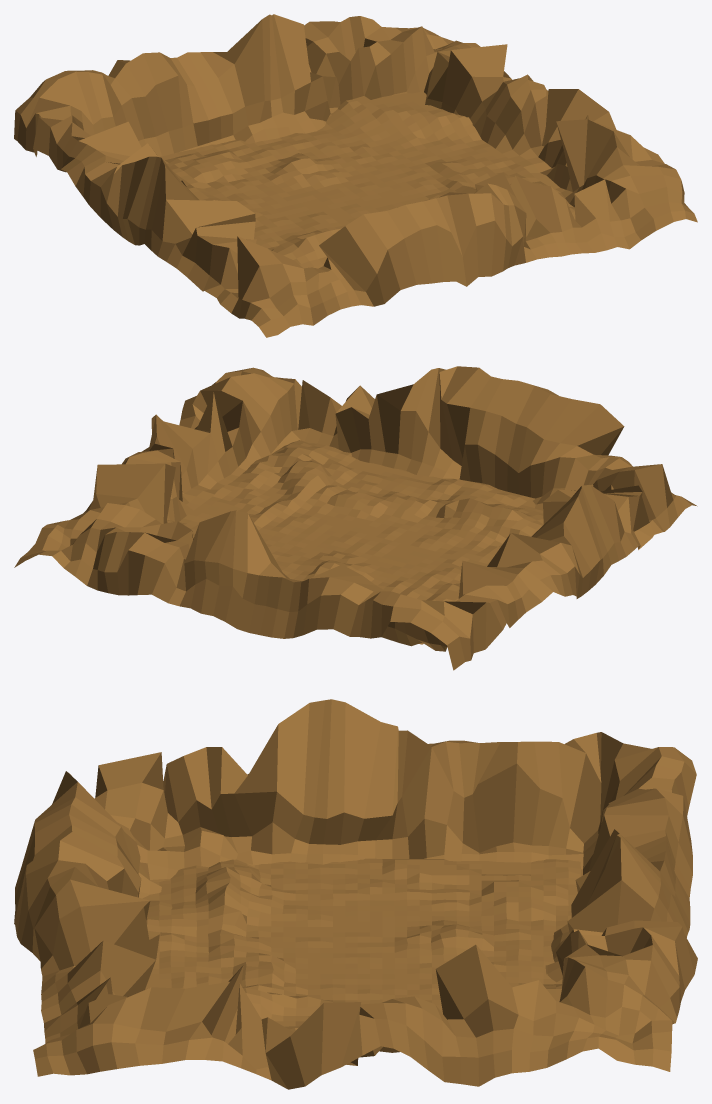
The model's file is ground.fbx.
3 views of the same model, one above another, from view 1: azimuth 30°, elevation 25°; view 2: azimuth 150°, elevation 25°; view 3: azimuth 270°, elevation 25° (orthographic). The views are drawn at different scales.
Visible parts, largest first — view 1: Grid.001, Grid; view 2: Grid.001, Grid; view 3: Grid.001, Grid.
Part boxes in pixels (box(x1,y1,x2,y2)): Grid.001: box(14, 14, 697, 337); Grid: box(159, 91, 575, 268); Grid.001: box(14, 366, 697, 670); Grid: box(167, 440, 543, 644); Grid.001: box(14, 699, 697, 1089); Grid: box(142, 858, 580, 1031).
Size of the model in its own units: 1578 by 333 by 1533.
